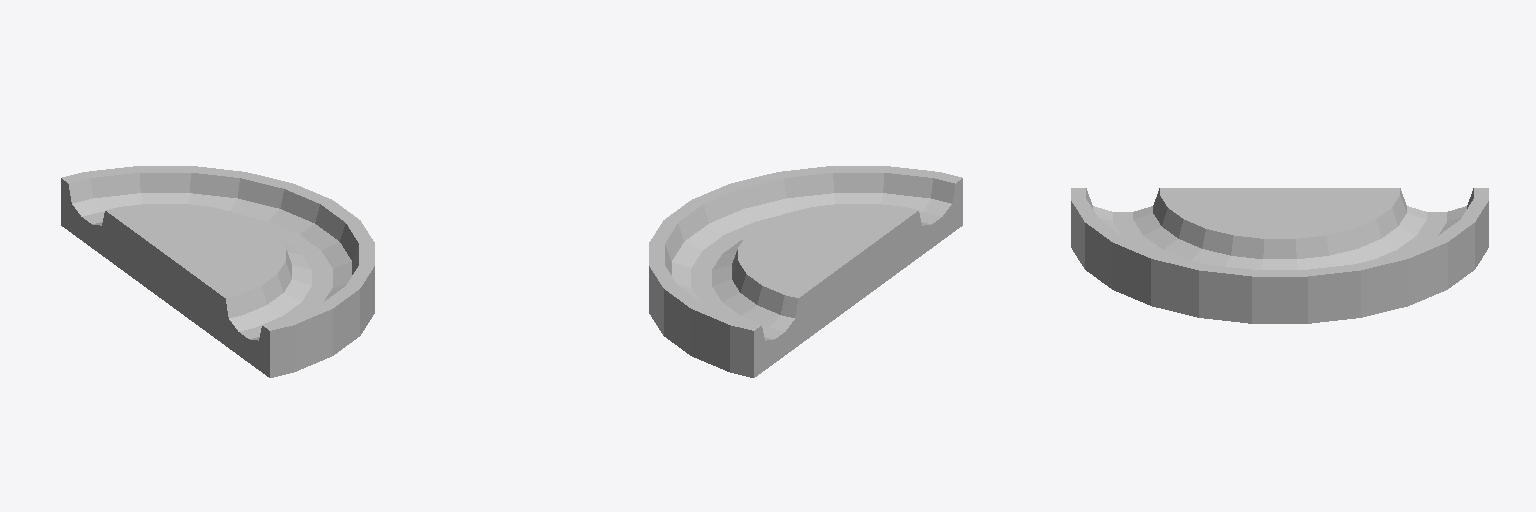
The model's file is bend-solid-medium.obj.
3 renders of one model, left to right at view 1: azimuth 30°, elevation 25°; view 2: azimuth 150°, elevation 25°; view 3: azimuth 270°, elevation 25°, orthographic.
Parts seen in each view (by area): view 1: bend-solid-medium; view 2: bend-solid-medium; view 3: bend-solid-medium.
Boxes of the visible parts, box(x1,y1,x2,y2) form: bend-solid-medium: box(61, 166, 374, 377); bend-solid-medium: box(649, 166, 962, 377); bend-solid-medium: box(1071, 188, 1488, 323).
Bounding box in the file's own units: 2 × 0.5 × 4.